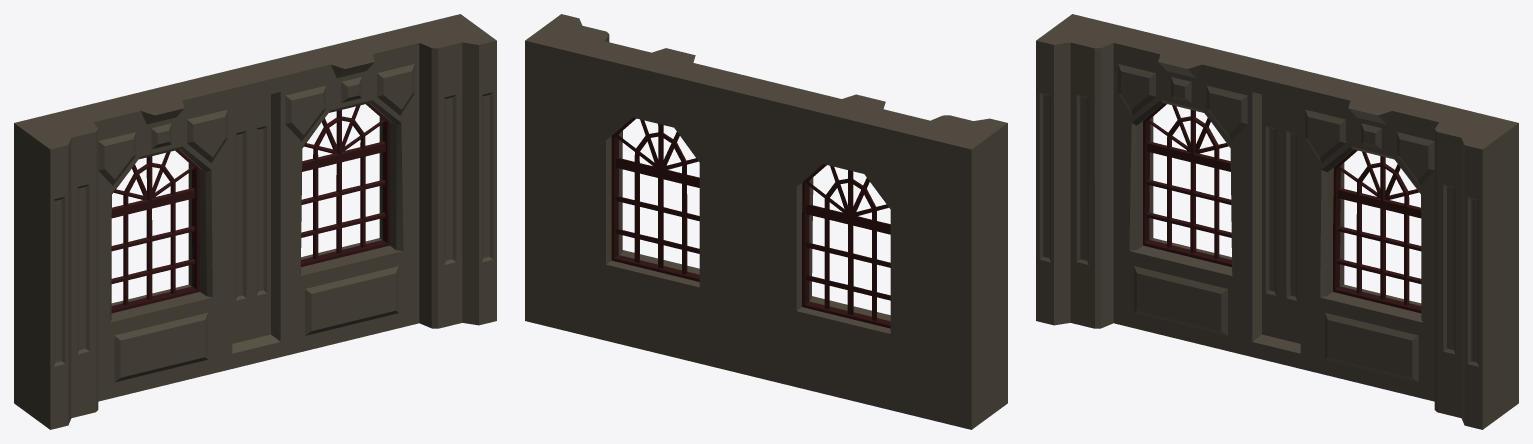
File: P_facadeDETAIL1sansVitre.FBX
The picture shows the model from 3 angles, left to right: view 1: azimuth 30°, elevation 25°; view 2: azimuth 150°, elevation 25°; view 3: azimuth 330°, elevation 25°; orthographic projection.
Parts seen in each view (by area): view 1: Box094; view 2: Box094; view 3: Box094.
Part boxes in pixels (x1=…): Box094: x1=14, y1=14, x2=496, y2=429; Box094: x1=525, y1=14, x2=1007, y2=429; Box094: x1=1036, y1=14, x2=1518, y2=429.
Bounding box in the file's own units: 500 × 300 × 70.51.
